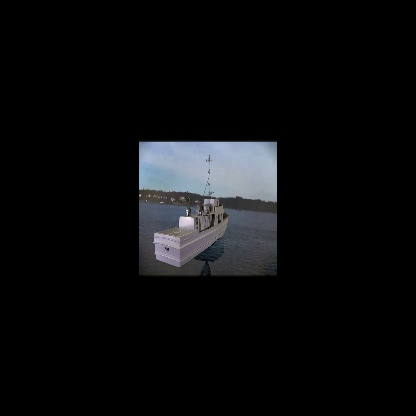YP689: (154, 154, 230, 267)
